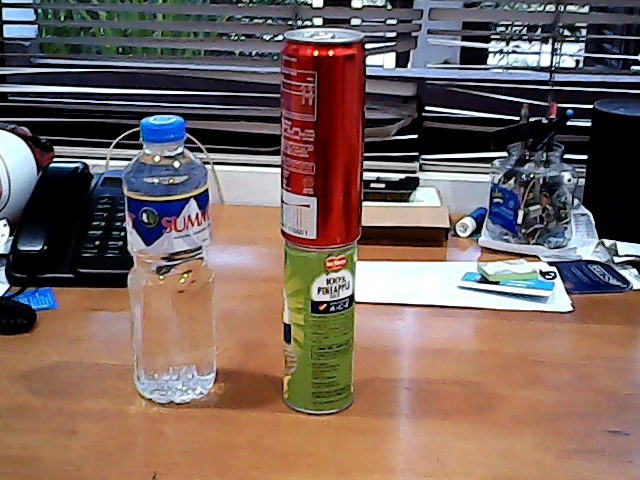Cola: (268, 23, 368, 250)
Pine Juice: (274, 236, 368, 417)
Summit Water: (118, 111, 223, 404)
